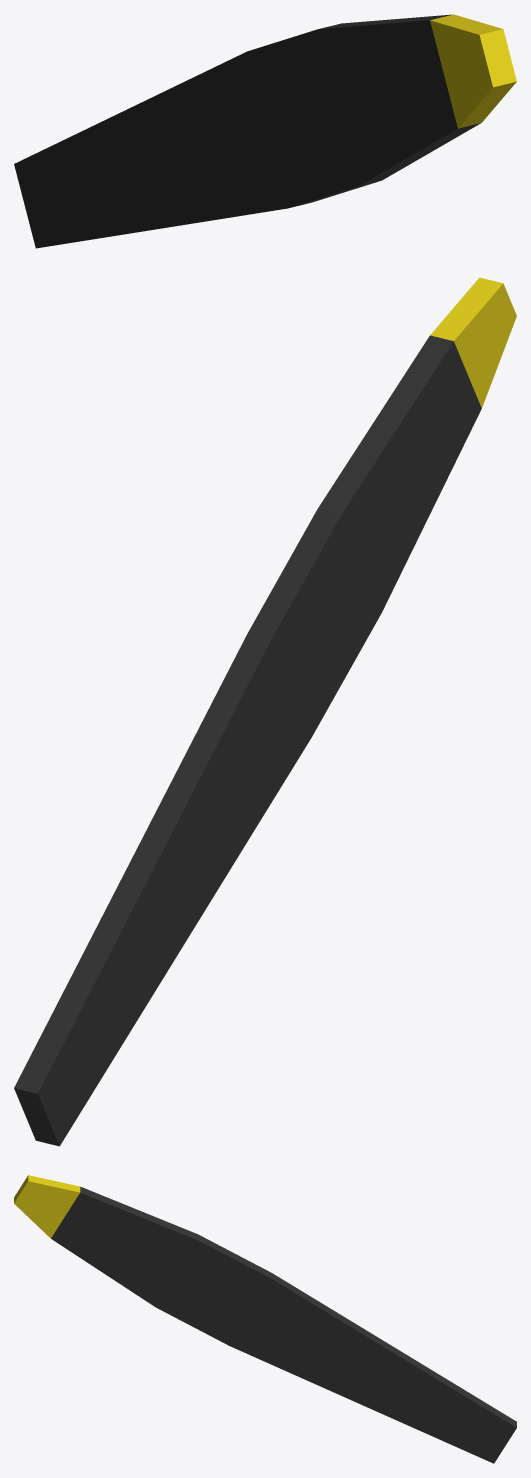
File: B17_prop.glb
3 renders of one model, top to bottom at view 1: azimuth 30°, elevation 25°; view 2: azimuth 150°, elevation 25°; view 3: azimuth 270°, elevation 25°, orthographic. The views are drawn at different scales.
Parts seen in each view (by area): view 1: Pale 3.003; view 2: Pale 3.003; view 3: Pale 3.003.
Boxes of the visible parts, x1,y1,x2,y2 form: Pale 3.003: (14,14,516,248); Pale 3.003: (14,277,516,1146); Pale 3.003: (14,1175,516,1463).
Size of the model in its own units: 0.0288 by 0.6194 by 0.999.
